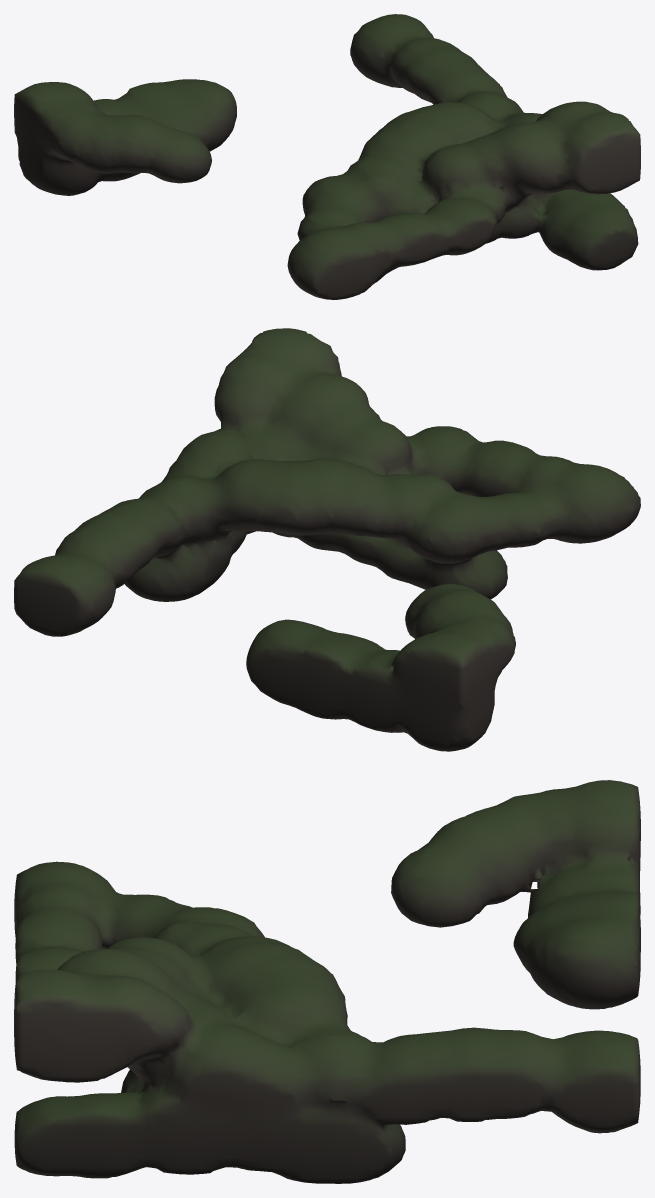
Rendered from cave.glb.
The picture shows the model from 3 angles, top to bottom: view 1: azimuth 30°, elevation 25°; view 2: azimuth 150°, elevation 25°; view 3: azimuth 270°, elevation 25°; orthographic projection. The views are drawn at different scales.
Visible parts, largest first — view 1: cave; view 2: cave; view 3: cave.
Boxes of the visible parts, bbox=[...] form: cave: bbox=[14, 14, 640, 299]; cave: bbox=[14, 328, 640, 751]; cave: bbox=[14, 780, 640, 1183].
Size of the model in its own units: 52.03 by 18.53 by 52.06.
